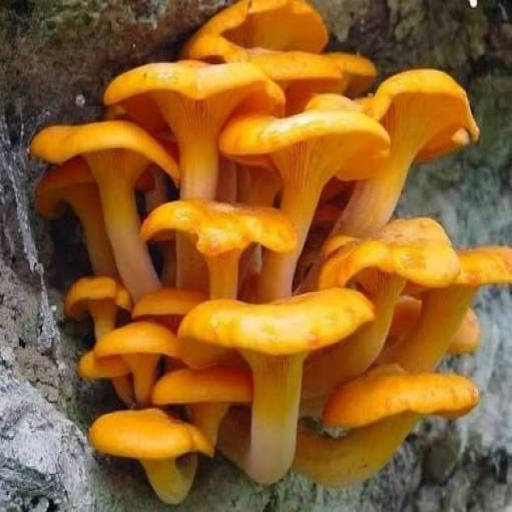Jack O Lantern Mushroom: (172, 288, 380, 495), (223, 100, 393, 303), (314, 55, 480, 253), (27, 107, 191, 303), (104, 47, 286, 212), (287, 368, 481, 493), (306, 217, 445, 372), (133, 193, 300, 308), (402, 230, 512, 383), (85, 404, 207, 504), (180, 0, 331, 72), (242, 39, 381, 112), (155, 364, 253, 455), (99, 311, 188, 405), (64, 268, 143, 347)
